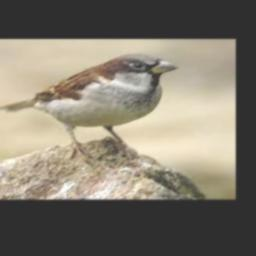Sparrow: (0, 54, 180, 160)
